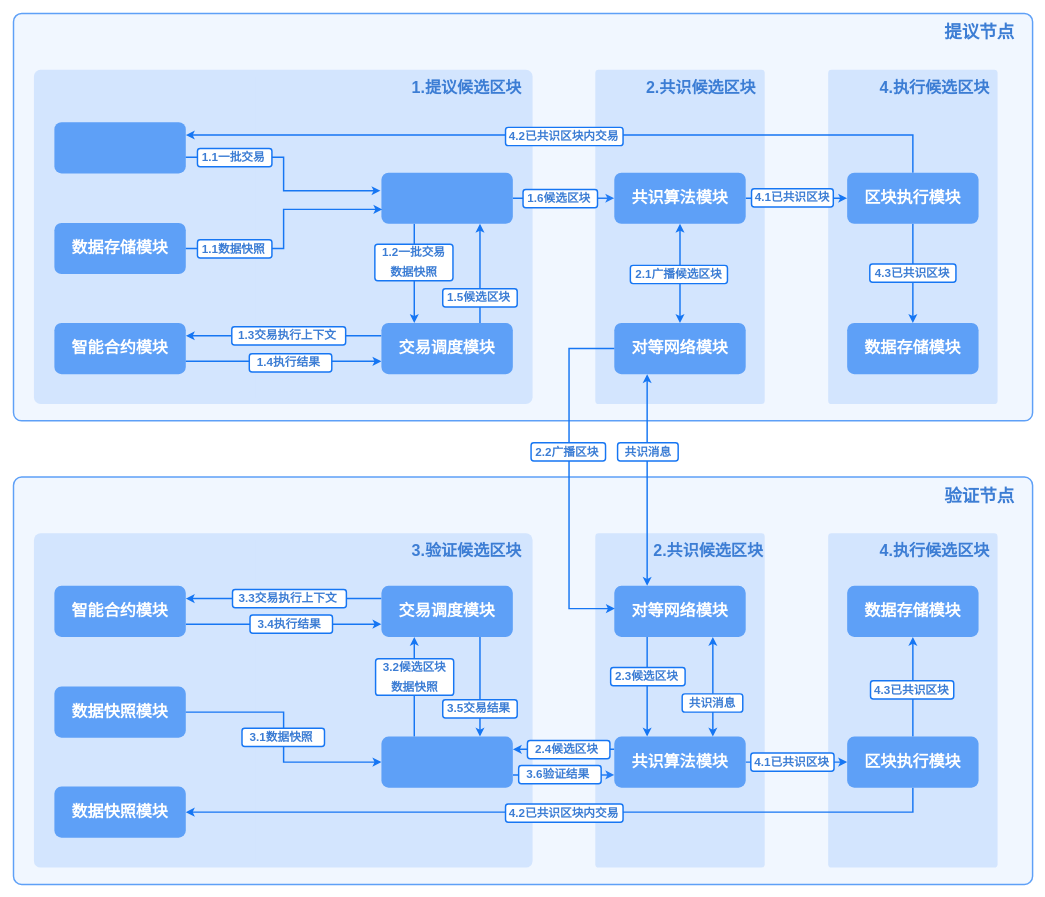
Image size: 1045x897. Some labels were removed from this diagram. Here are the shapes that lost their labels. From the top down, the centre of each, then its label:
At point (119, 147): "交易缓存模块".
At point (446, 197): "区块提议模块".
At point (446, 761): "区块验证模块".
